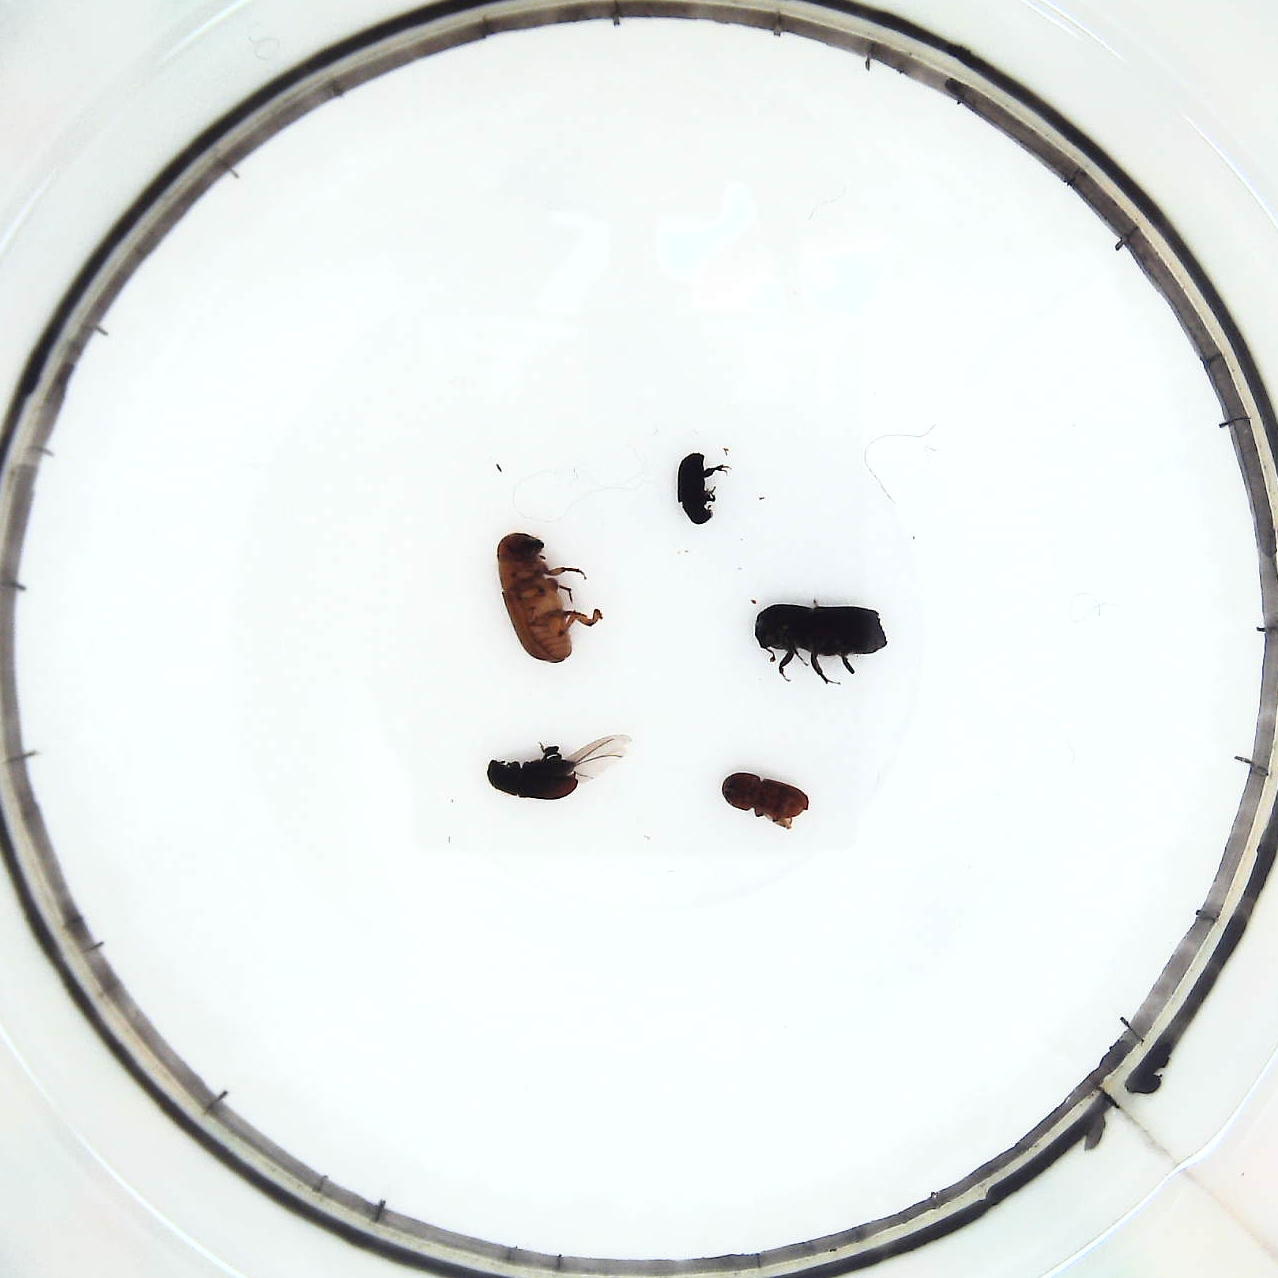Boerner: (753, 599, 893, 685)
Leconte: (492, 528, 605, 672)
armandi: (483, 731, 635, 802)
coleoptera: (671, 448, 730, 528)
linnaeus: (719, 765, 813, 838)
